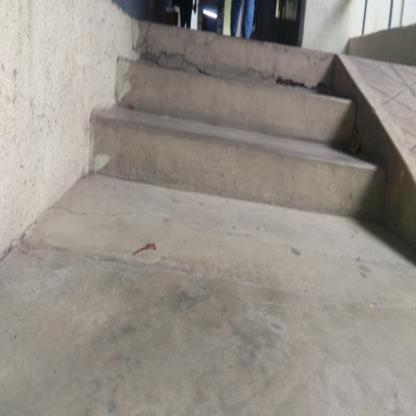stairs: (130, 49, 334, 207)
